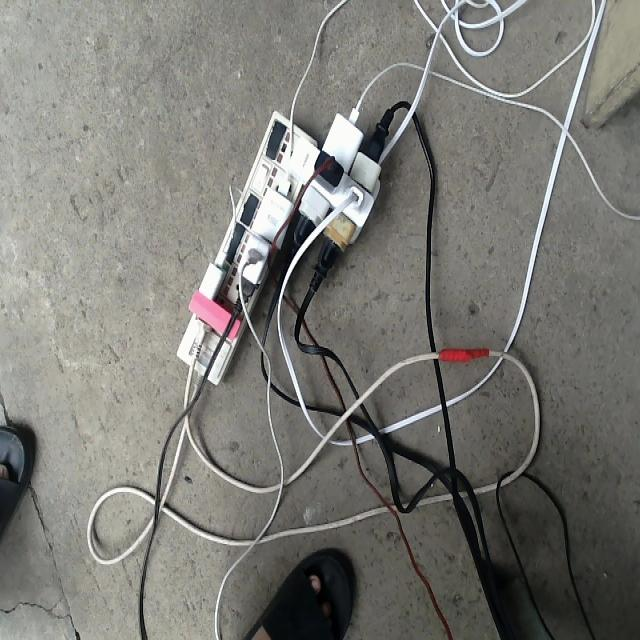-: (175, 103, 403, 384)
